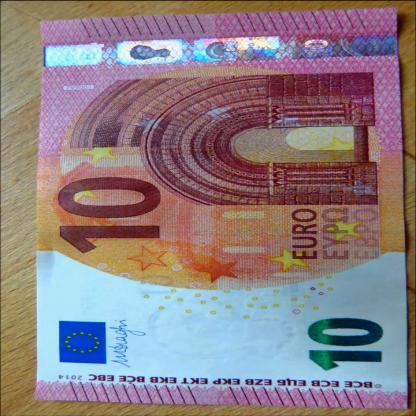euro_banknote: (23, 19, 416, 394)
